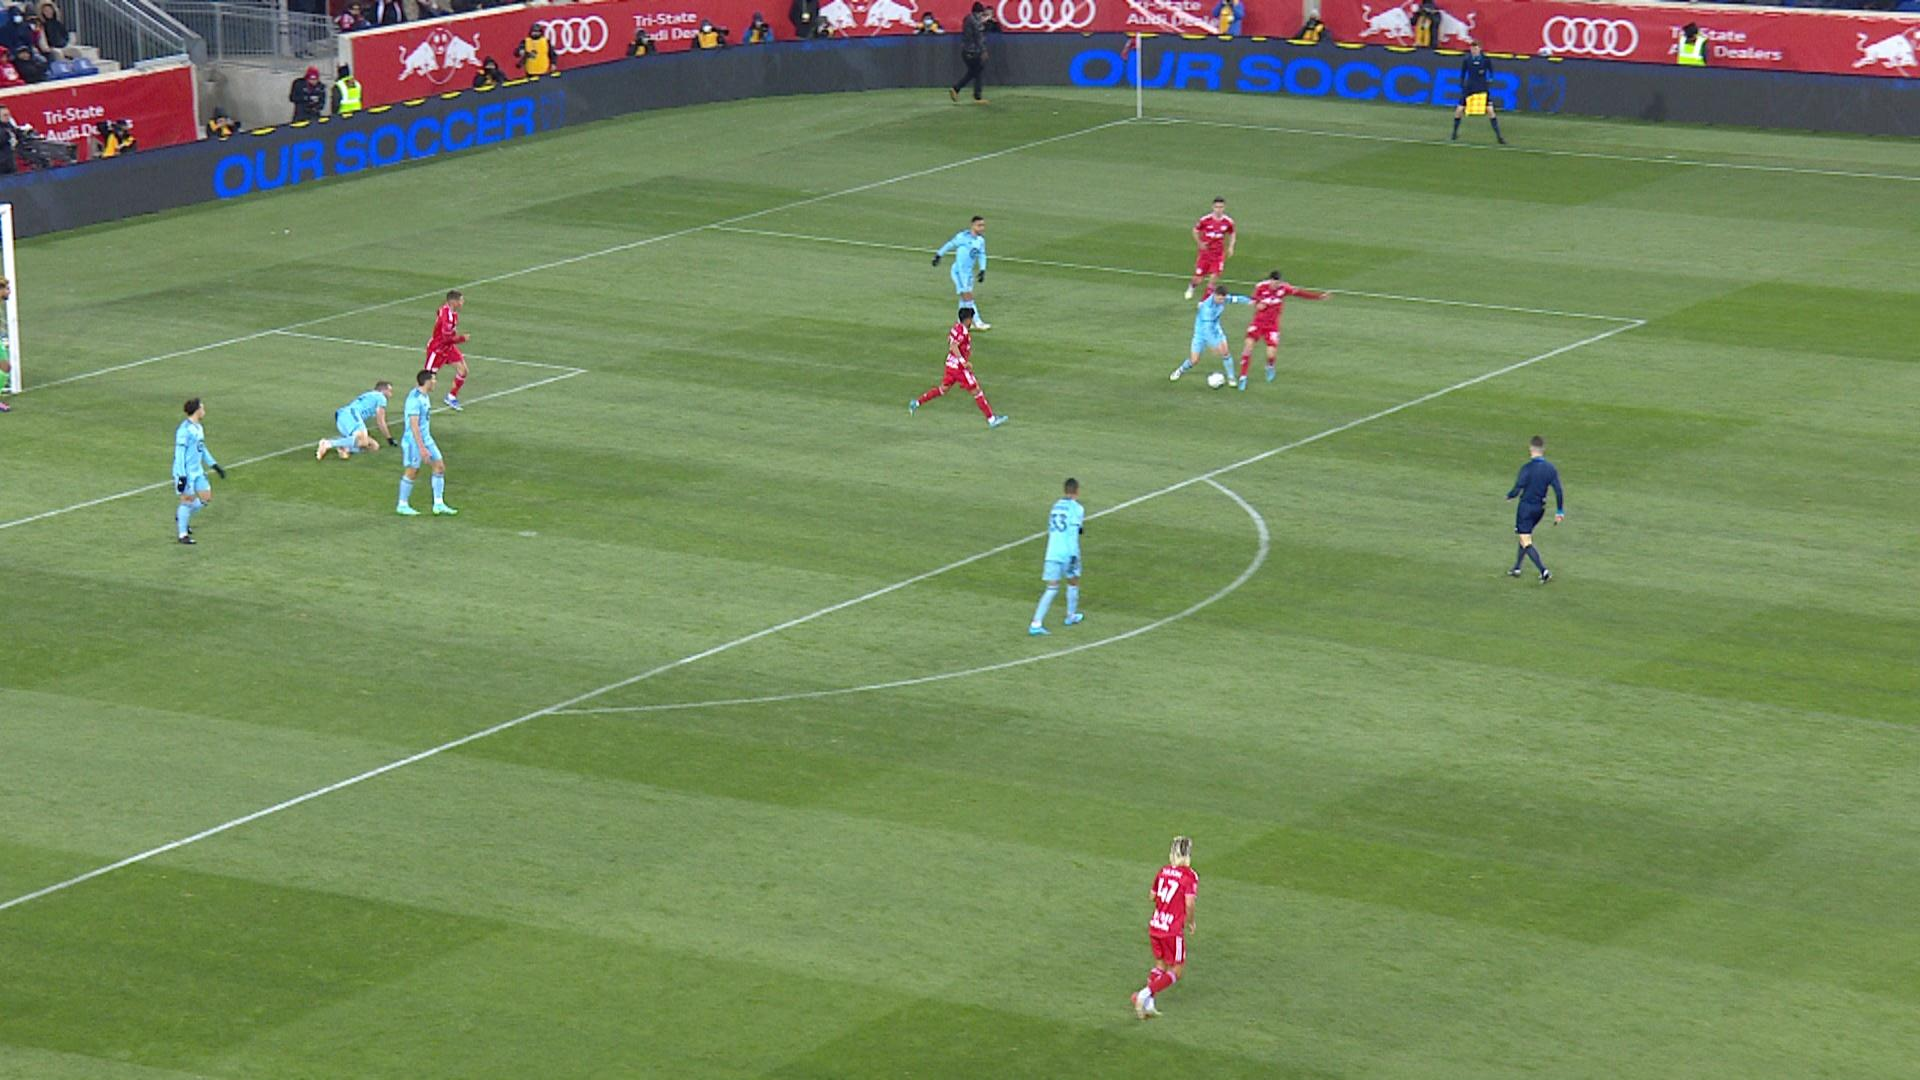football: (1207, 373, 1226, 390)
